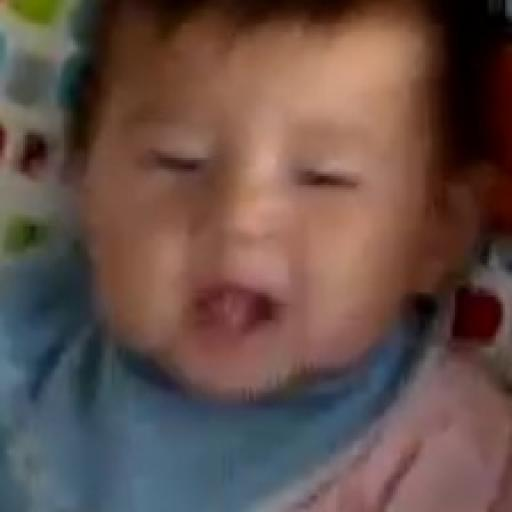Autism: (60, 0, 511, 431)
